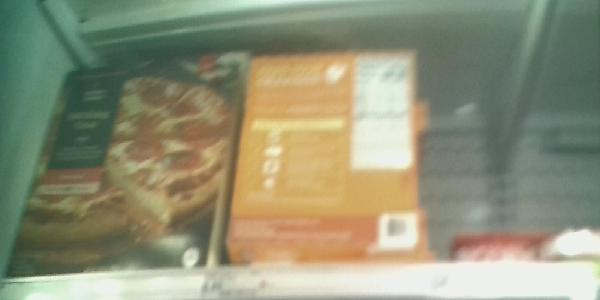pizza1: (6, 30, 237, 274), (232, 46, 423, 210)
pizza2: (227, 210, 433, 254)
